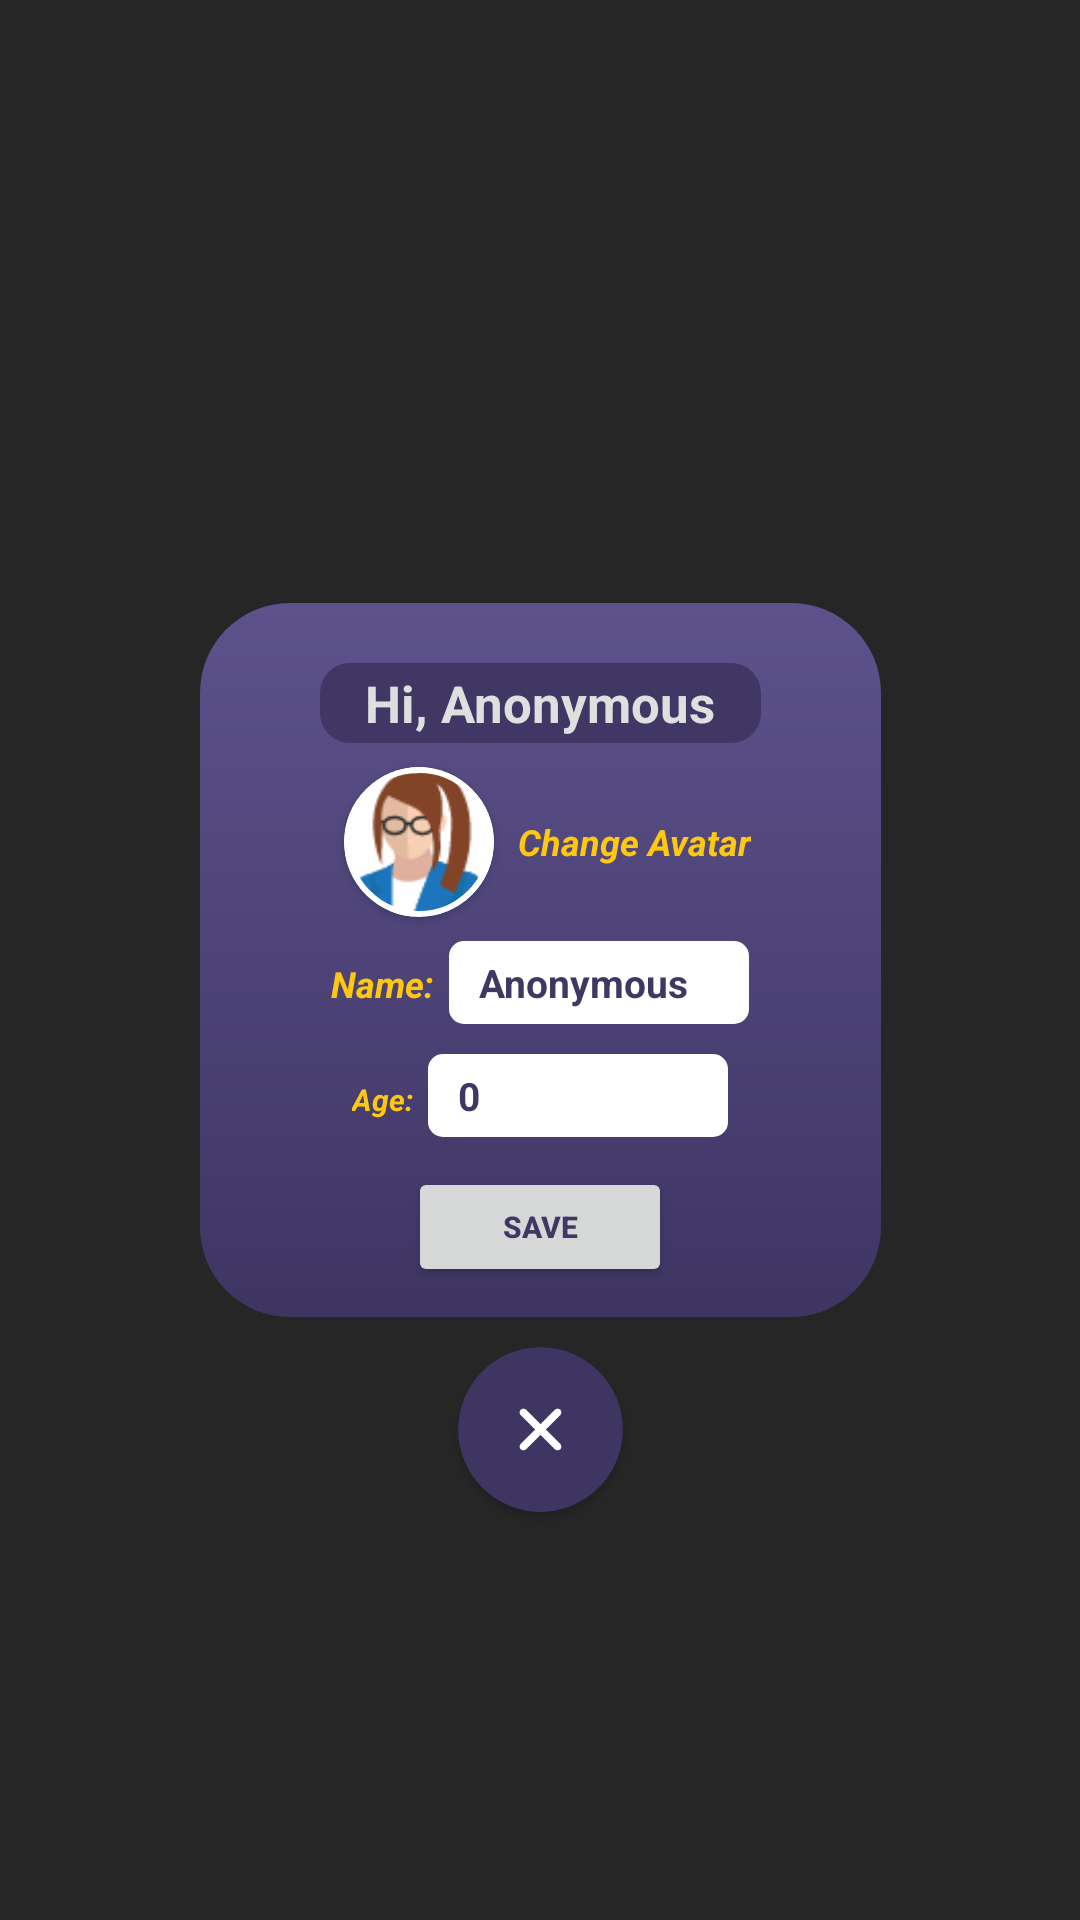

Named icons in this screenshot (1080×1920) and their centers, (x=x, y=y):
cancel: (x=540, y=1429)
